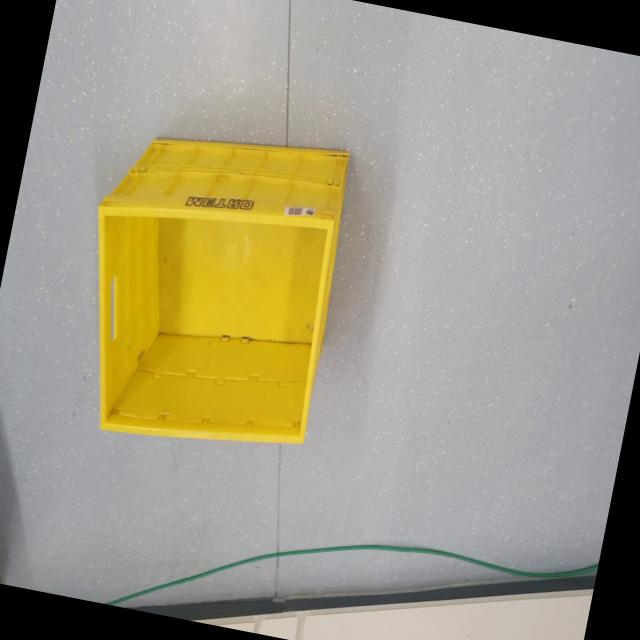box: (41, 71, 370, 490)
